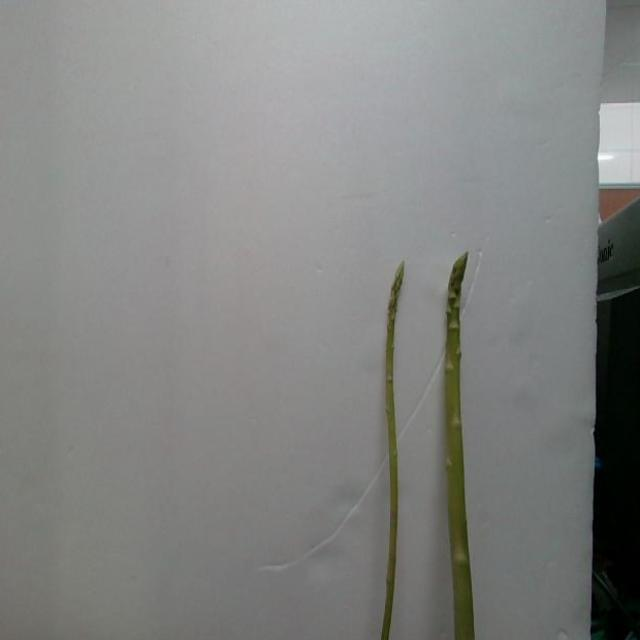aspargus: (440, 256, 477, 640), (379, 263, 408, 640)
